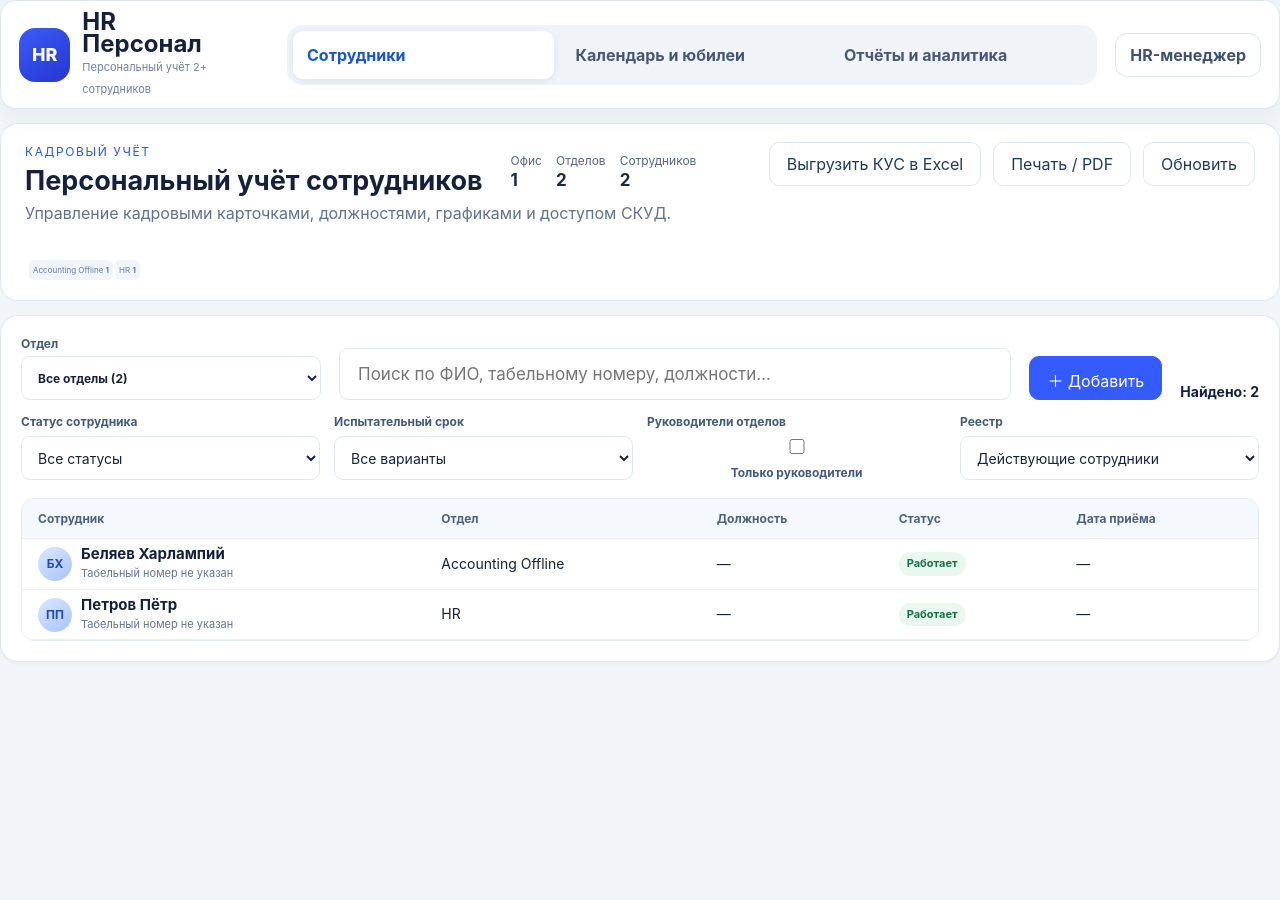
Test: Кадровое рабочее место › применяет фильтр отдела по клику на названии отдела в сводке
Expected: the text "Петров Пётр" is shown, [81,595,177,614]
Click the button "HR 1".
click(127, 270)  # box [115,260,140,280]
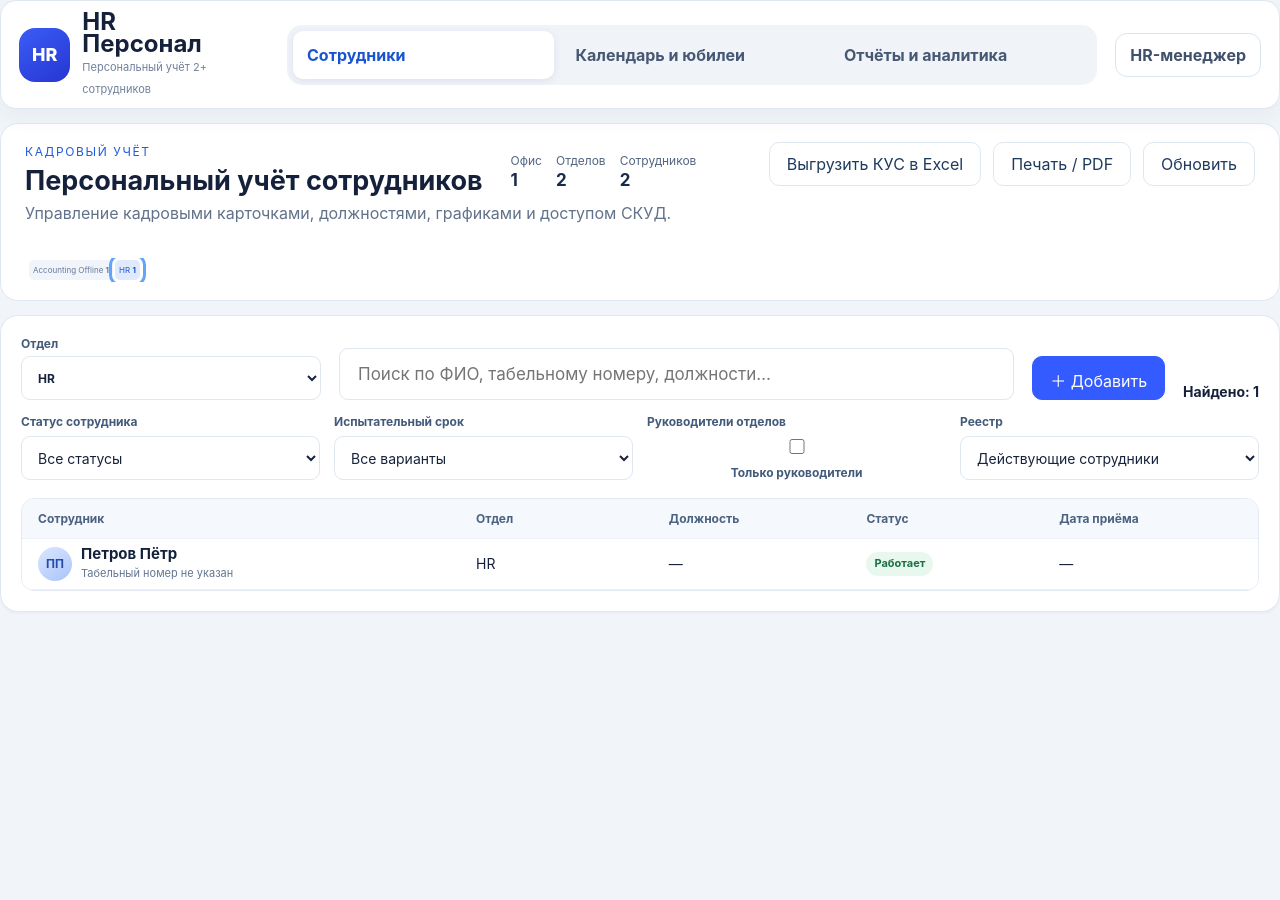
Now the dropdown named "Фильтр по отделу" shows "HR", box [21,356,321,400]
Now the button "Беляев Харлампий" is gone
